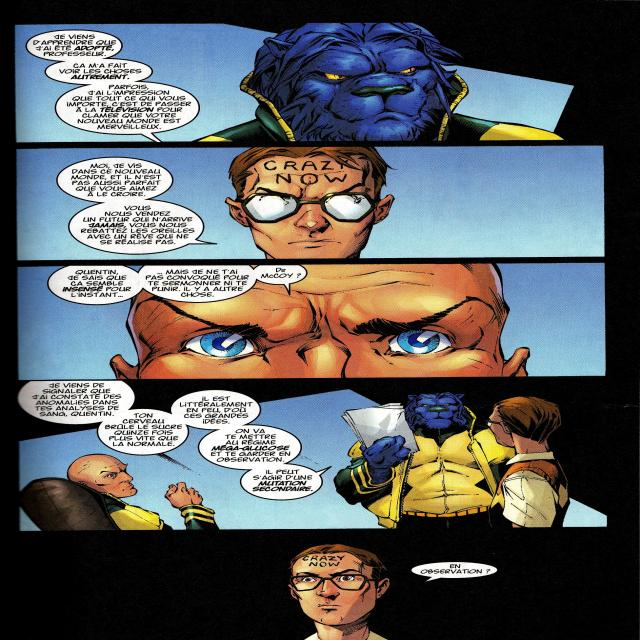comic_panel: (18, 380, 607, 533), (14, 21, 605, 143), (20, 146, 605, 262), (18, 264, 606, 379), (18, 537, 606, 640)
